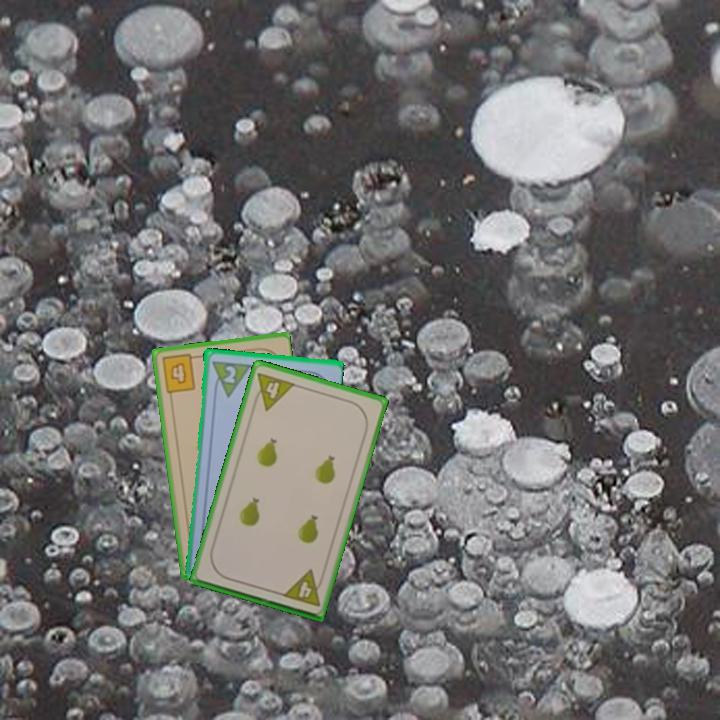2p: (208, 357, 252, 399)
4b: (158, 351, 201, 396)
4p: (249, 369, 298, 413), (279, 566, 327, 609)
